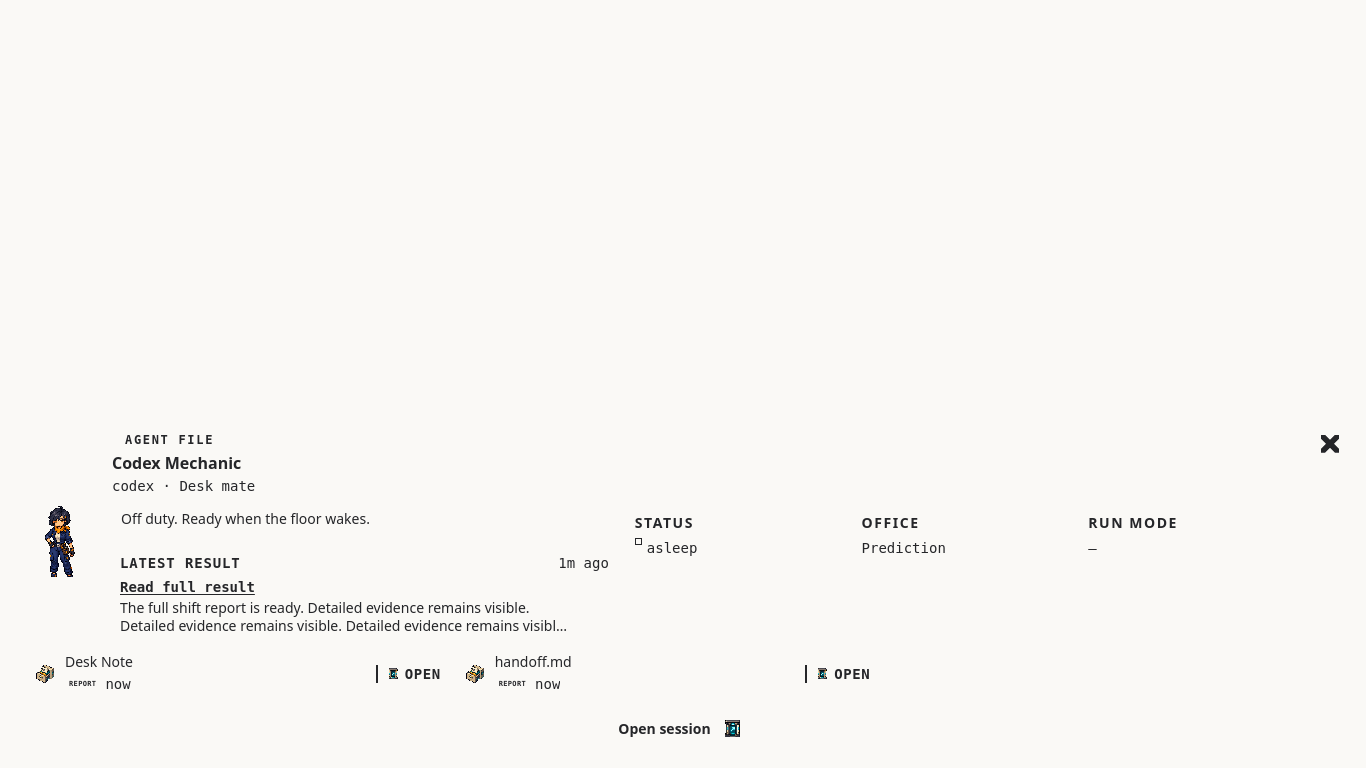
Test: OfficeInspectRail › lets keyboard players read and collapse a complete latest result
Click the button "Read full result" at [187, 587], box [120,577,255,597]
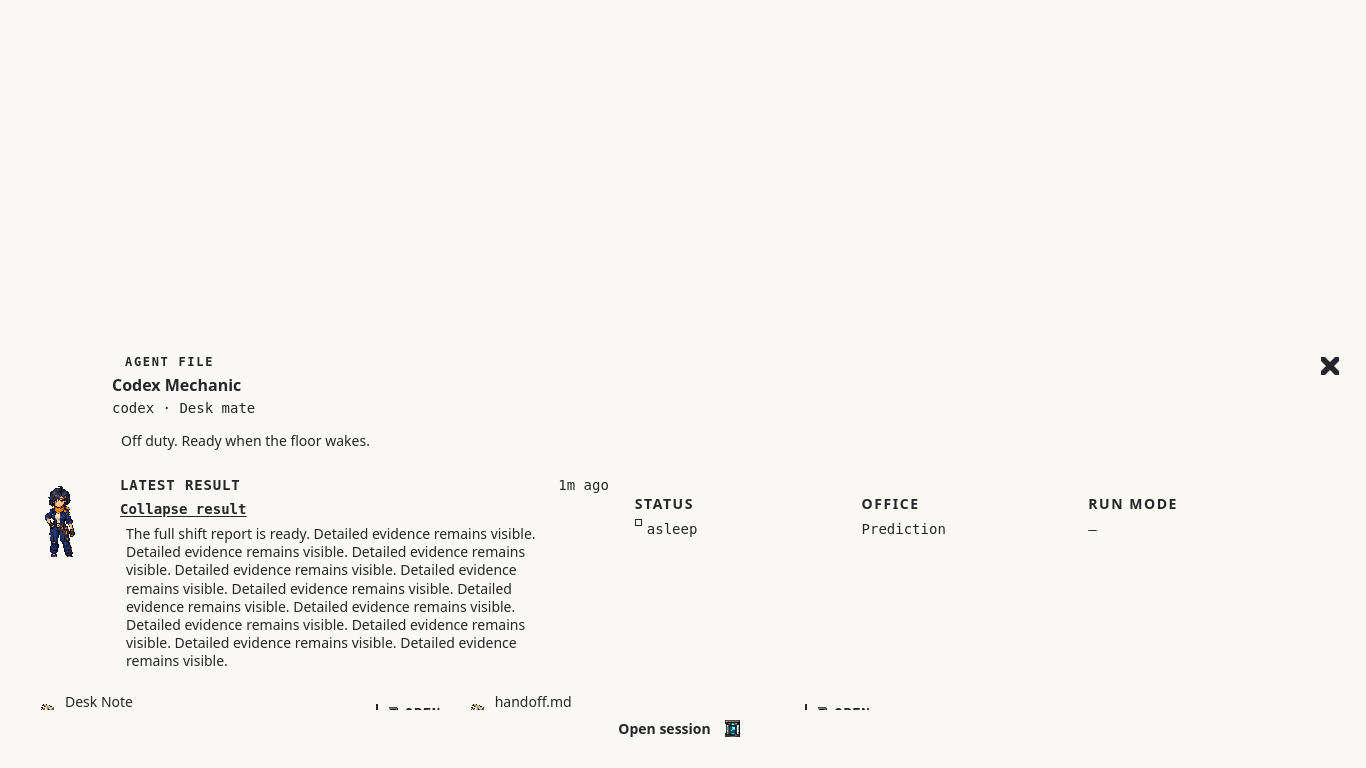
Now the button "Collapse result" is expanded, box [120,499,246,519]
Press Escape
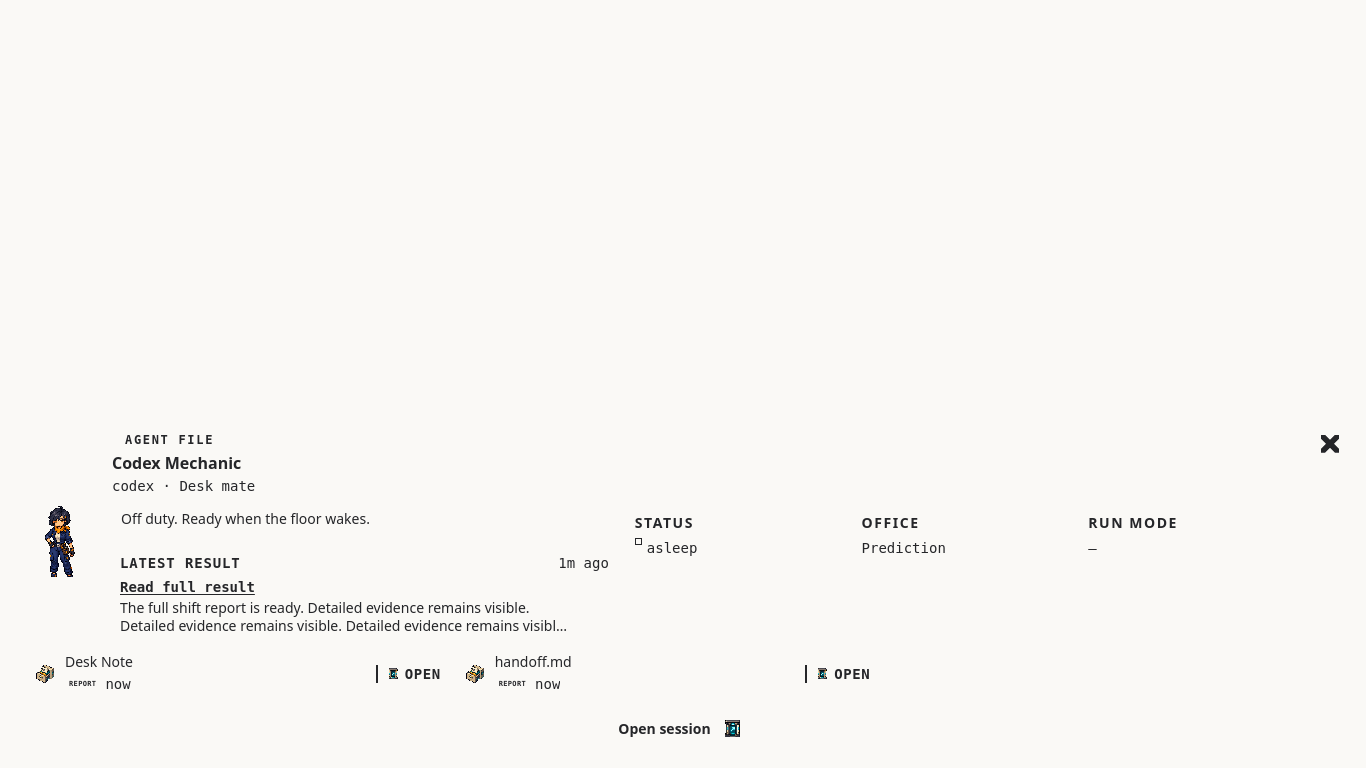
Now the button "Read full result" is collapsed, box [120,577,255,597]
